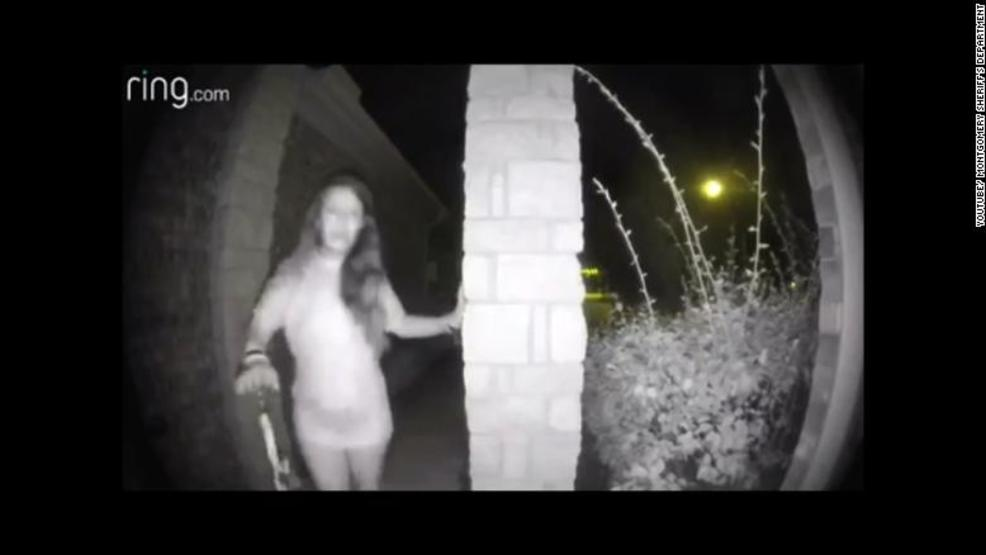Person: (218, 169, 466, 503)
